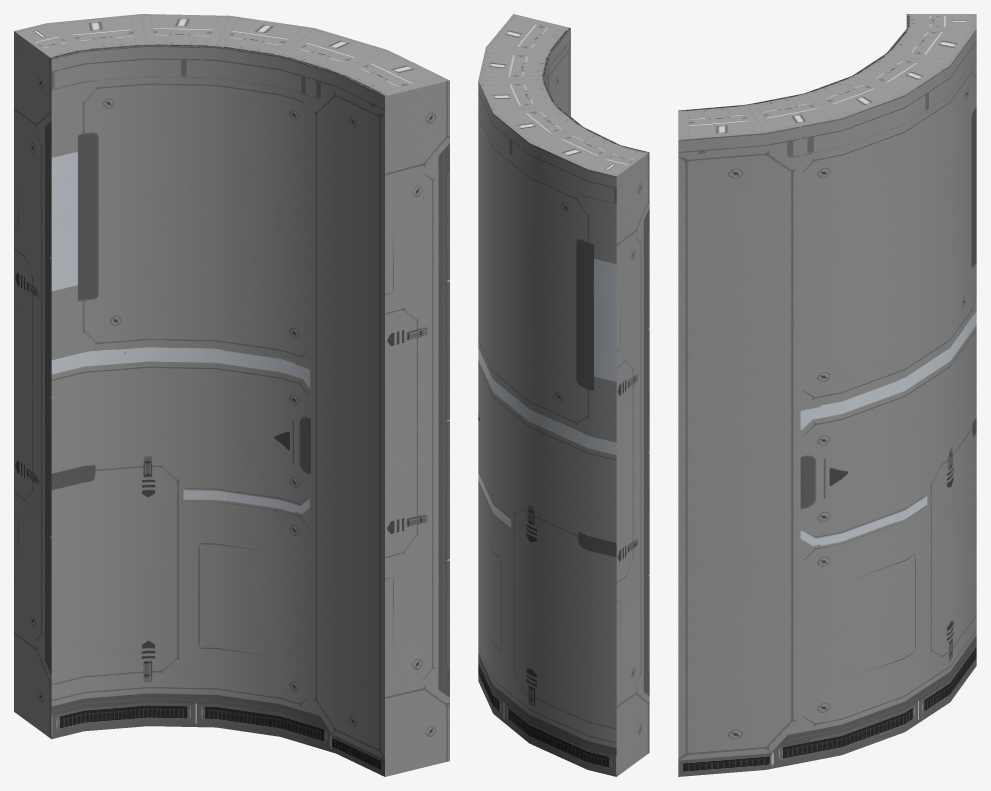
The model's file is SM_Walls_CURVED08.fbx.
3 views of the same model, side by side, from view 1: azimuth 30°, elevation 25°; view 2: azimuth 150°, elevation 25°; view 3: azimuth 270°, elevation 25° (orthographic). The views are drawn at different scales.
Parts seen in each view (by area): view 1: SM_Walls_CURVED08_LOD0; view 2: SM_Walls_CURVED08_LOD0; view 3: SM_Walls_CURVED08_LOD0.
Part boxes in pixels (x1,y1,x2,y2): SM_Walls_CURVED08_LOD0: (14,14,449,776); SM_Walls_CURVED08_LOD0: (478,14,649,776); SM_Walls_CURVED08_LOD0: (678,14,976,776).
Bounding box in the file's own units: 170 × 170 × 400.
Materials: 1 (1 with a texture image).
